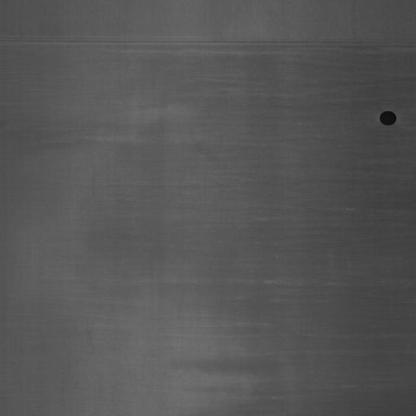punching_hole: (377, 108, 398, 129)
welding_line: (2, 18, 413, 62)
